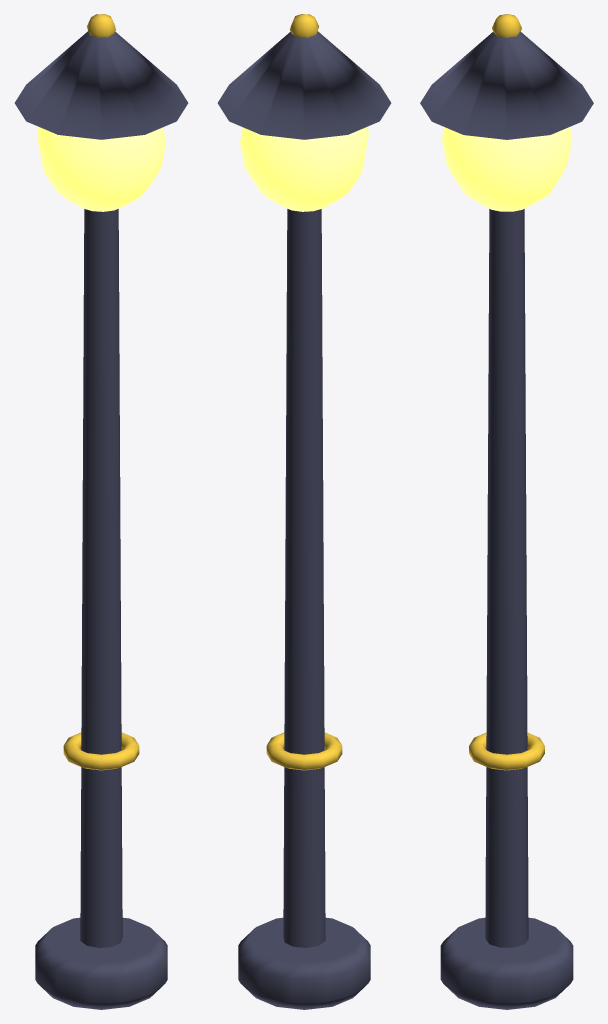
File: lamp_post.glb
The picture shows the model from 3 angles, left to right: view 1: azimuth 30°, elevation 25°; view 2: azimuth 150°, elevation 25°; view 3: azimuth 270°, elevation 25°; orthographic projection.
Visible parts, largest first — view 1: LampPost.001; view 2: LampPost.001; view 3: LampPost.001.
Part boxes in pixels (bbox=[...]): LampPost.001: bbox=[14, 14, 188, 1009]; LampPost.001: bbox=[217, 14, 391, 1009]; LampPost.001: bbox=[420, 14, 593, 1009].
Size of the model in its own units: 0.4 by 2.47 by 0.4.
